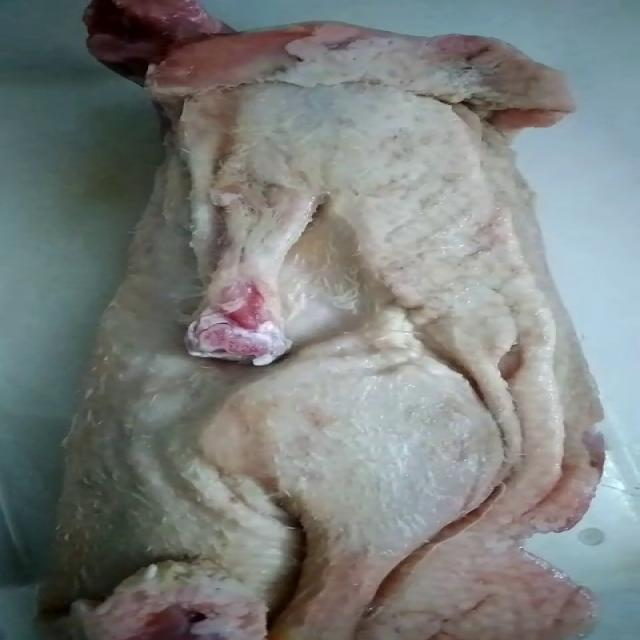chicken: (36, 0, 607, 638)
